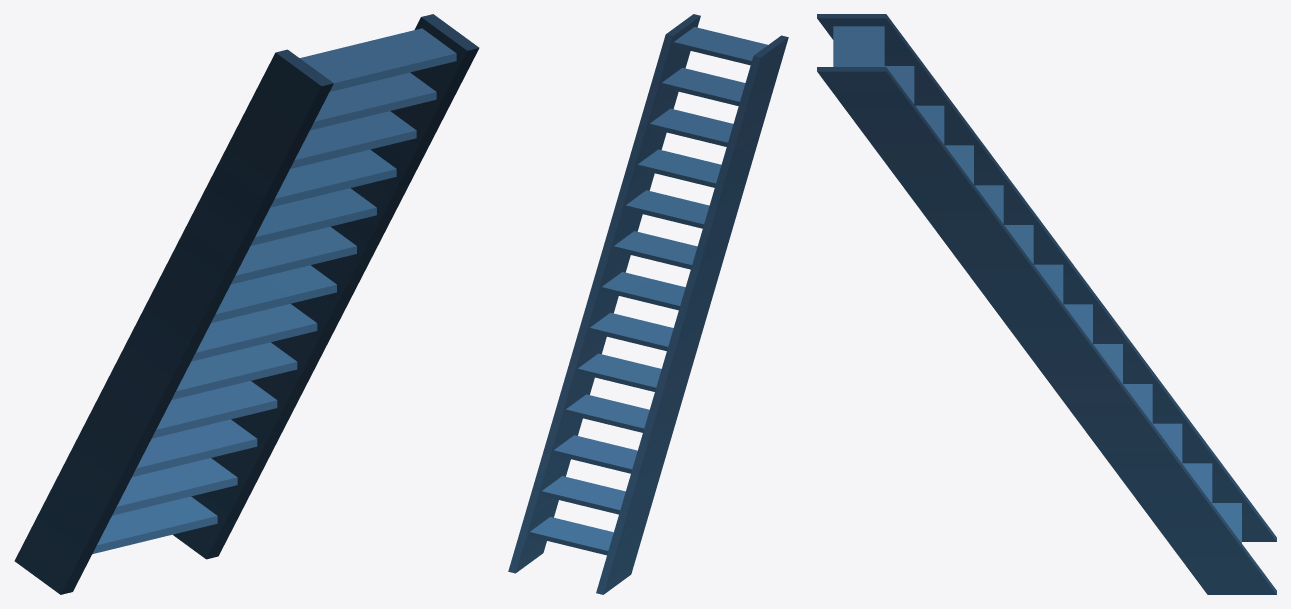
Rendered from FireEscape_D_2.glb.
The picture shows the model from 3 angles, left to right: view 1: azimuth 30°, elevation 25°; view 2: azimuth 150°, elevation 25°; view 3: azimuth 270°, elevation 25°; orthographic projection. The views are drawn at different scales.
Parts seen in each view (by area): view 1: FireEscape_D_2; view 2: FireEscape_D_2; view 3: FireEscape_D_2.
Boxes of the visible parts, x1=… form: FireEscape_D_2: x1=14, y1=14, x2=479, y2=594; FireEscape_D_2: x1=508, y1=14, x2=788, y2=594; FireEscape_D_2: x1=817, y1=14, x2=1276, y2=594.
Size of the model in its own units: 0.7675 by 3.25 by 2.59.
1 material, 1 textured.
